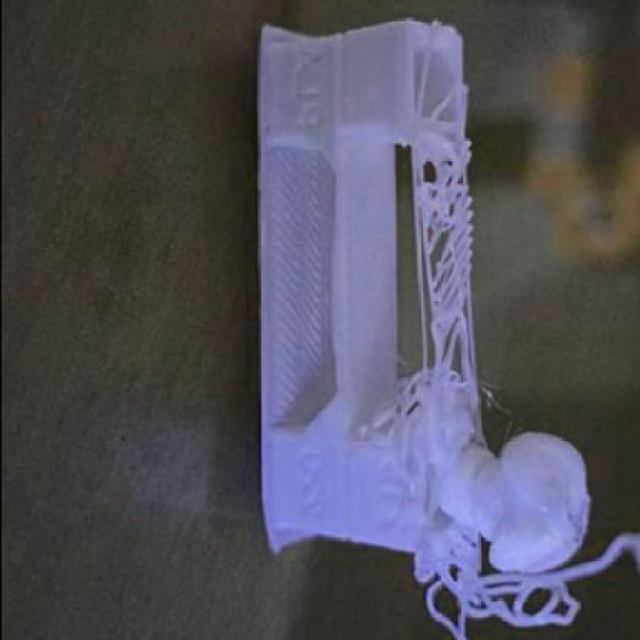Spaghetti: (404, 516, 640, 638), (411, 51, 478, 404), (346, 376, 420, 442)
